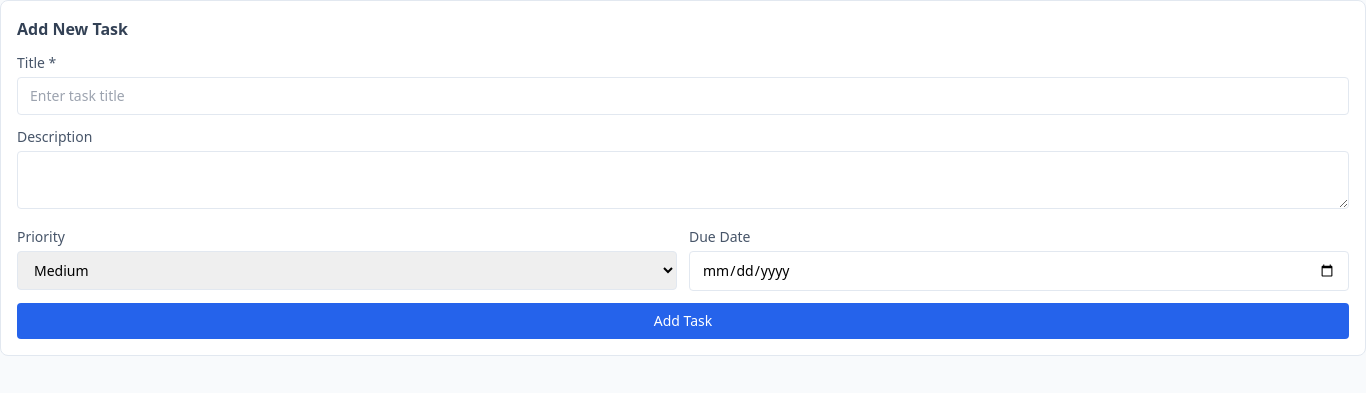
Test: AddTaskForm › clears previous errors after a successful submission
Click the button "Add Task" at [683, 321], box [17,303,1349,339]
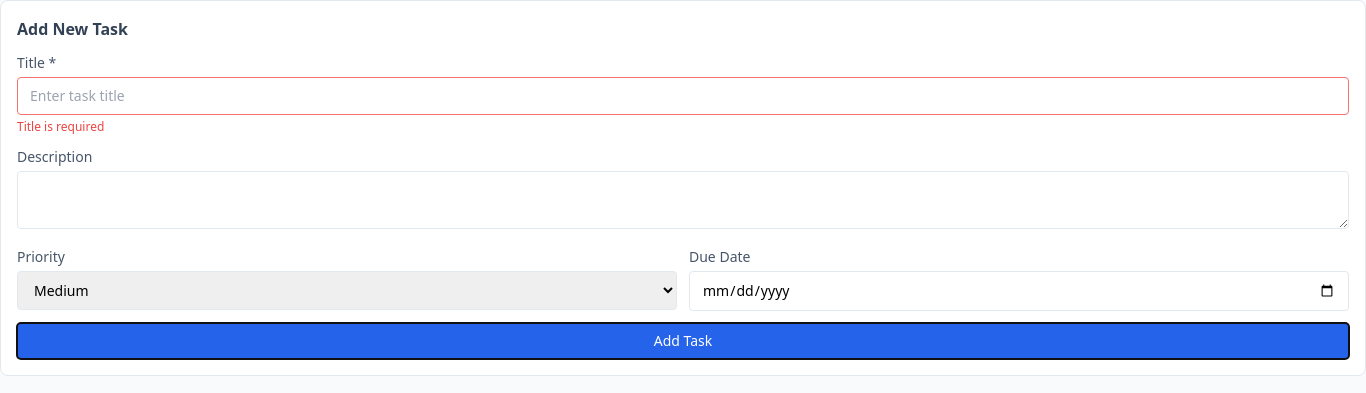
Check: the message "Title is required" is shown, box [17,118,104,135]
Type "Now valid title" into the field labelled "Title *" at [683, 96], box [17,77,1349,115]
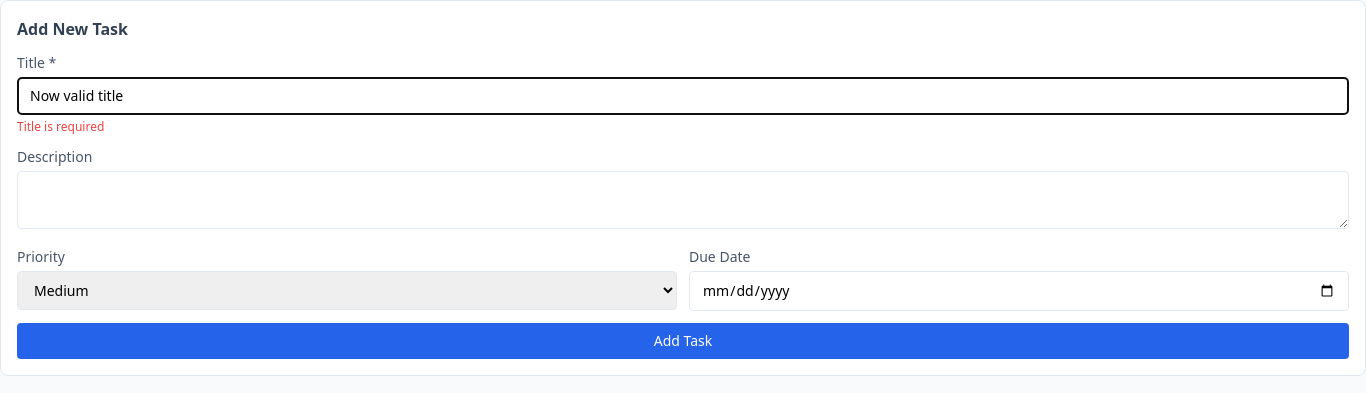
Click the button "Add Task" at [683, 341], box [17,323,1349,359]
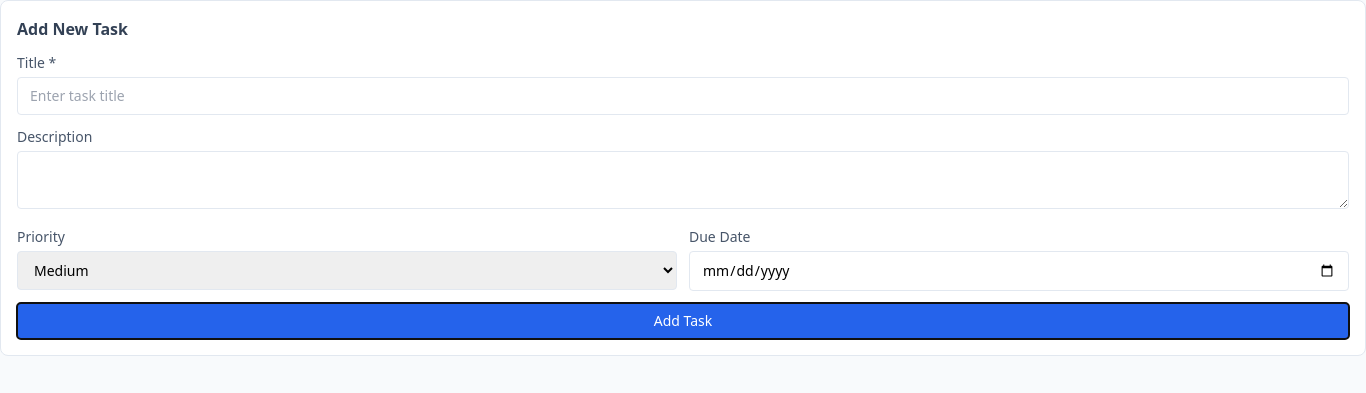
Check: the message "Title is required" is gone
